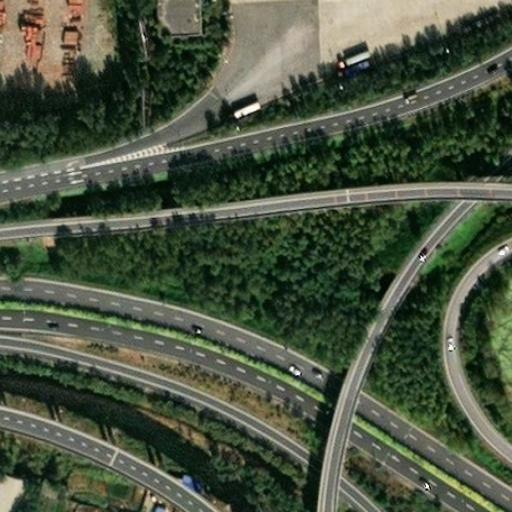building: (142, 0, 183, 21)
